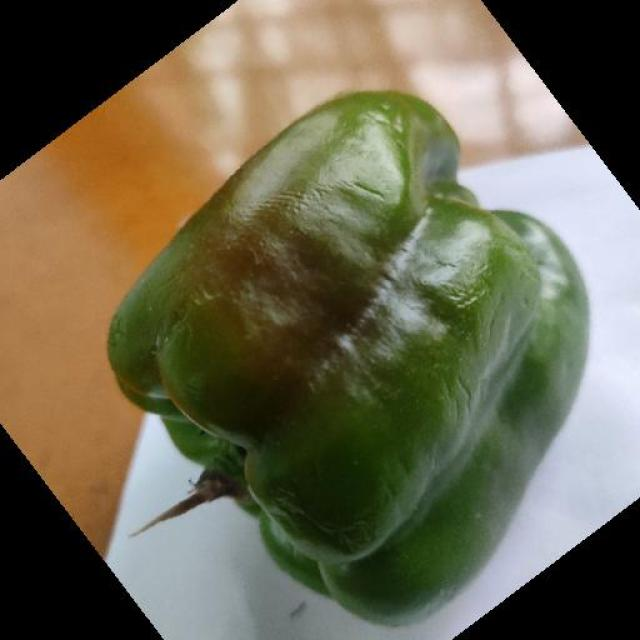Stale_Capsicum: (93, 112, 596, 584)
